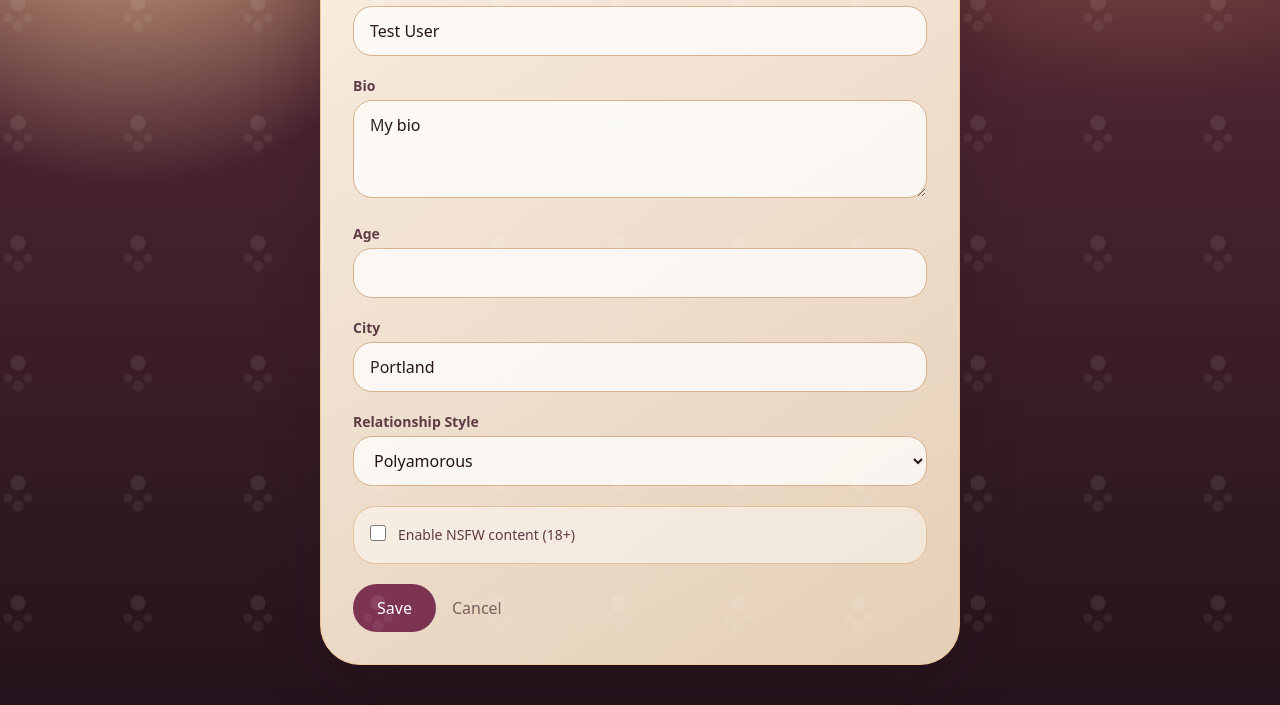
it: ProfileEditPage › shows error in modal when confirming with empty age
(page scrolled)
Click the checkbox labelled "Enable NSFW content (18+)": (378, 533) [370,525,386,541]
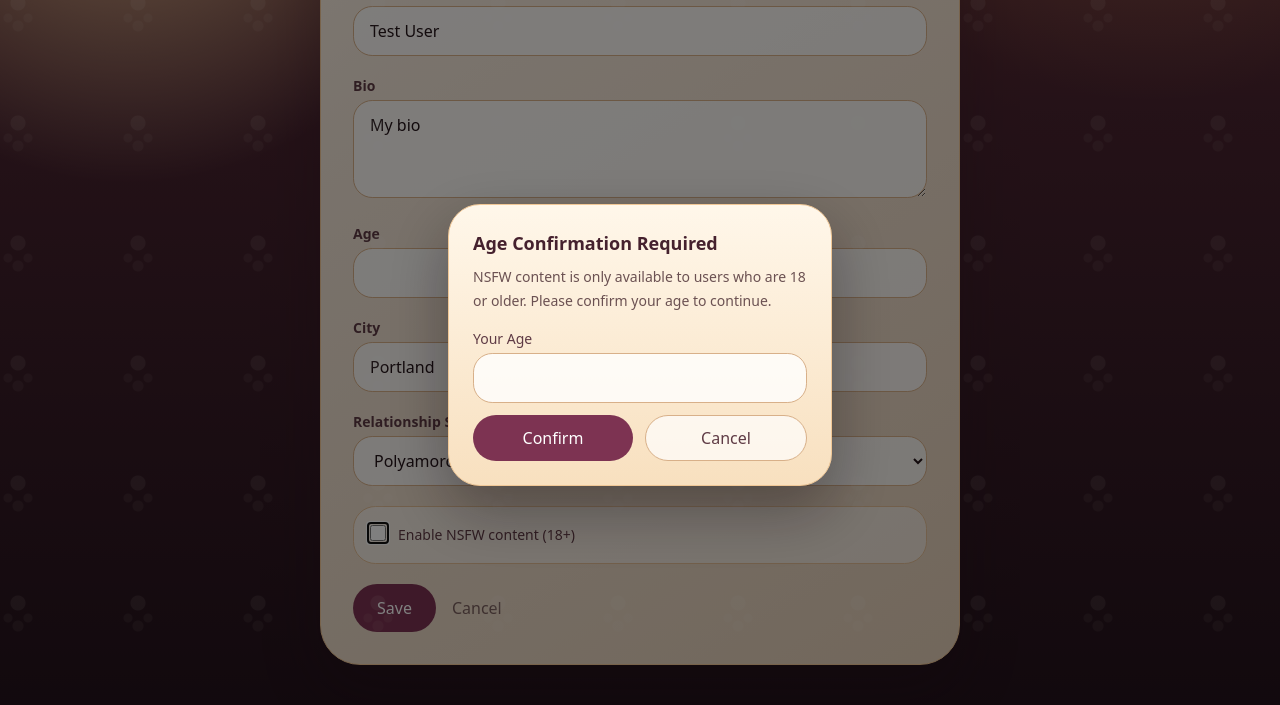
Click the button "Confirm": (553, 438) [473,415,633,461]
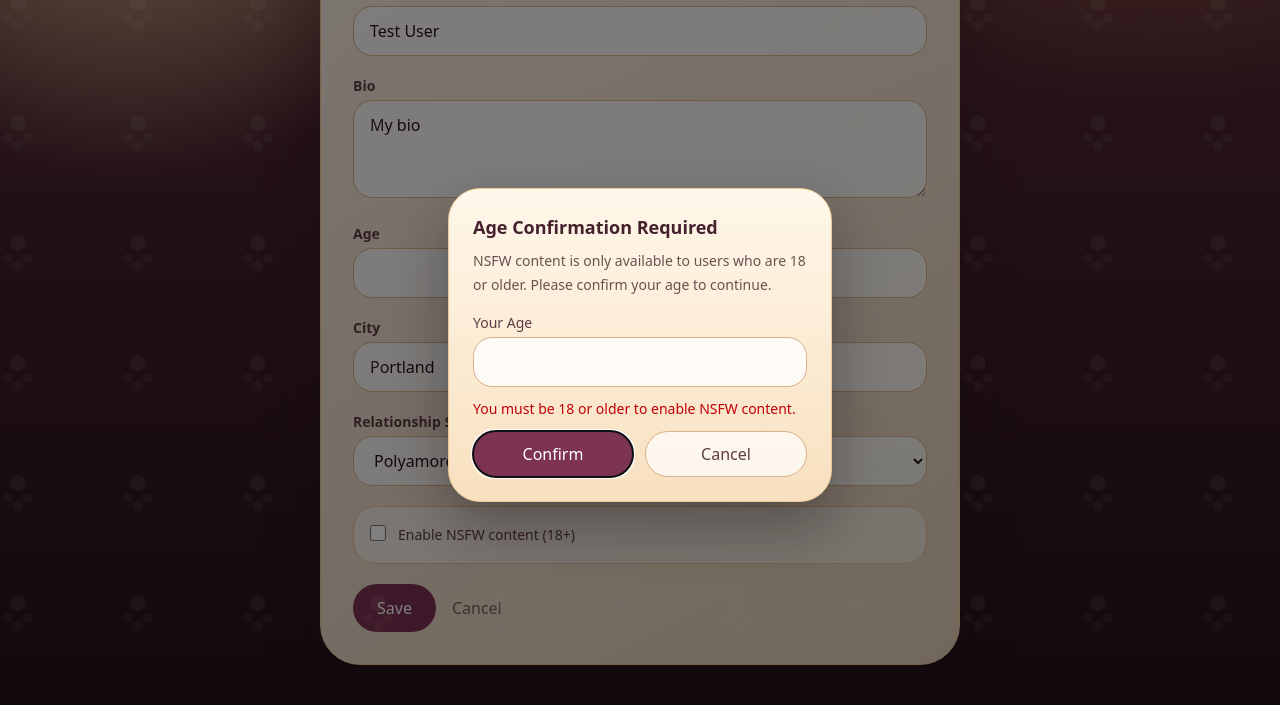
Now the text "You must be 18 or older to enable NSFW content." is shown, box [473,399,807,419]
